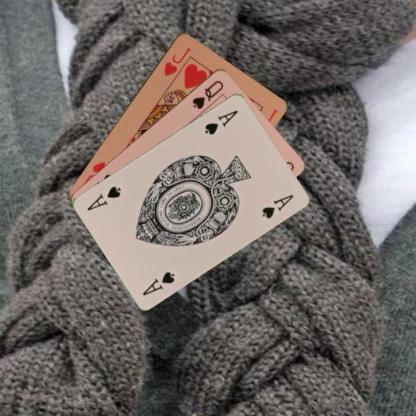As: (202, 107, 239, 136), (140, 268, 176, 296)
Jh: (161, 44, 192, 77)
Qs: (190, 78, 224, 110)
